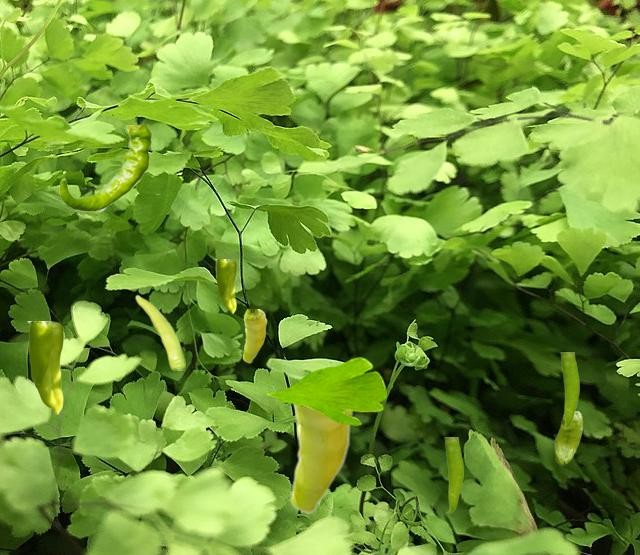green_chili: (289, 377, 353, 513), (59, 125, 151, 211), (135, 294, 184, 369), (27, 321, 62, 413), (554, 411, 581, 464), (444, 437, 462, 512), (560, 352, 578, 427), (242, 309, 266, 362), (215, 259, 235, 312)
